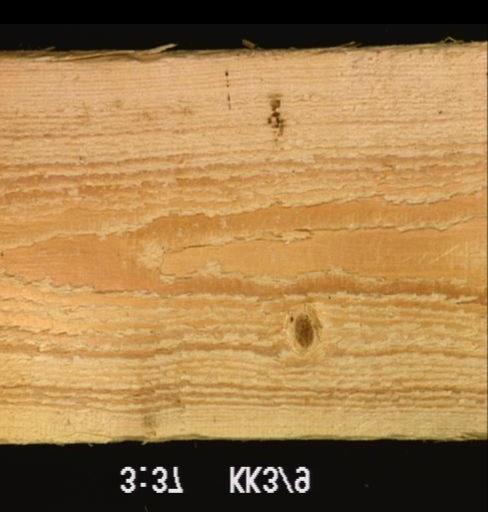sound_knot: (288, 312, 316, 348)
wave: (0, 38, 486, 63), (20, 430, 485, 443)
